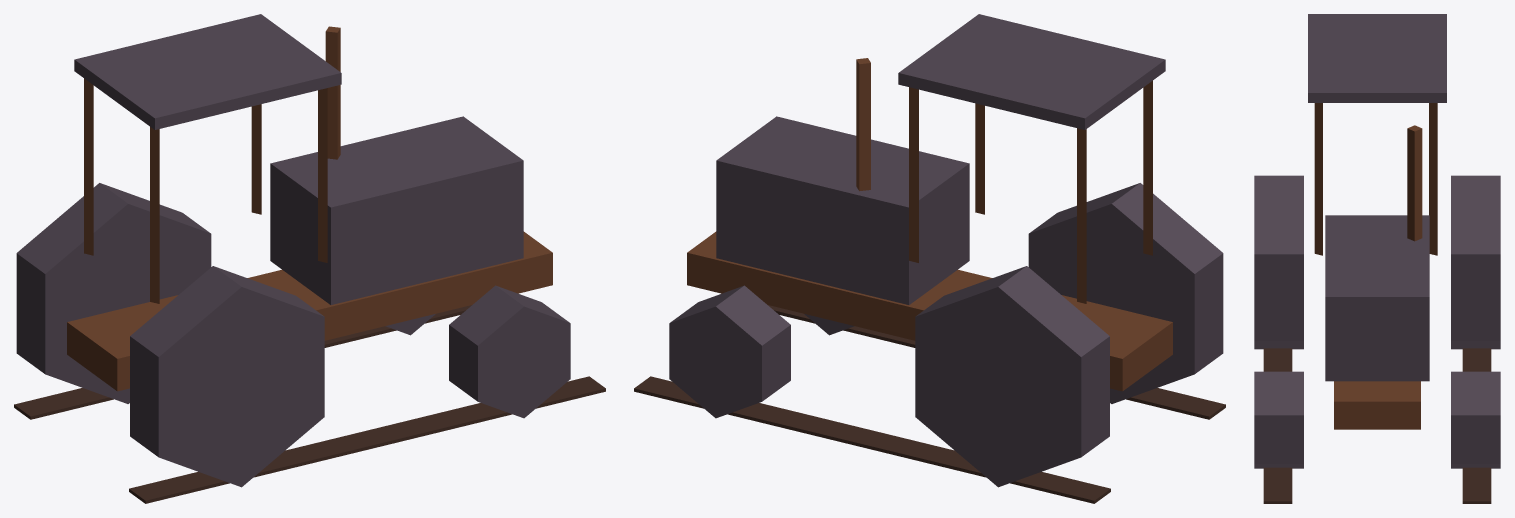
File: model.burned.lod2.glb
3 views of the same model, side by side, from view 1: azimuth 30°, elevation 25°; view 2: azimuth 150°, elevation 25°; view 3: azimuth 270°, elevation 25° (orthographic). The views are drawn at different scales.
Visible parts, largest first — view 1: body; view 2: body; view 3: body.
Boxes of the visible parts, left/top/right/bottom form: body: left=14, top=14, right=605, bottom=503; body: left=634, top=14, right=1225, bottom=503; body: left=1254, top=14, right=1500, bottom=503.
Size of the model in its own units: 3.7 by 2.77 by 1.98.
